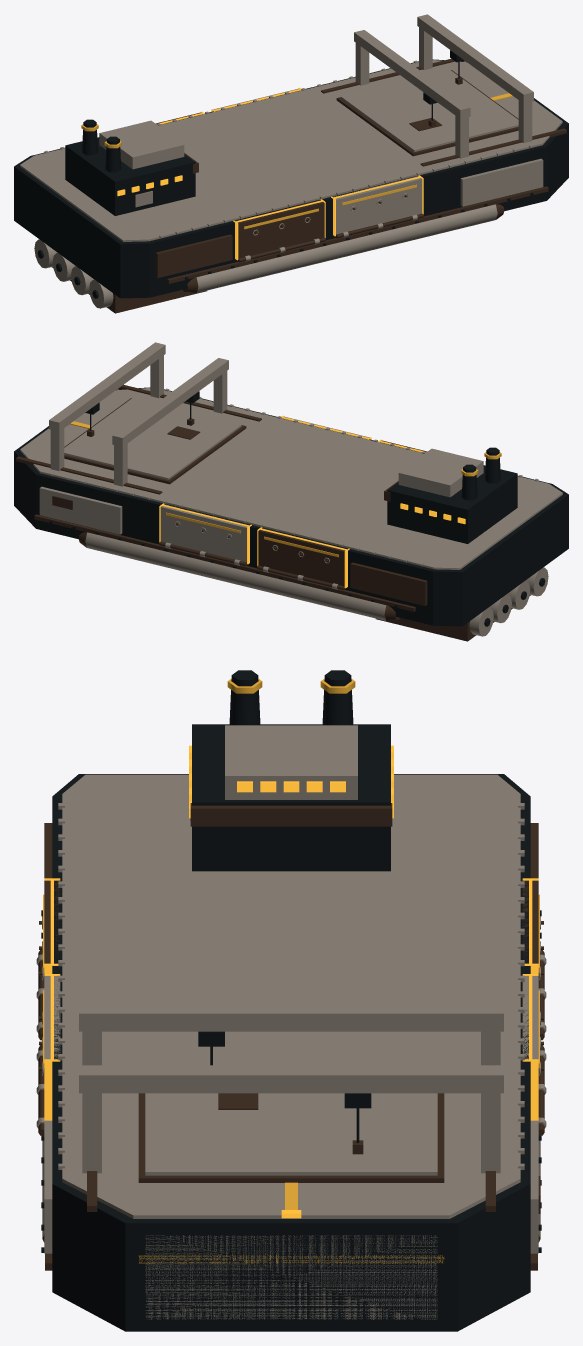
The model's file is freighter-bathyarch.glb.
3 renders of one model, top to bottom at view 1: azimuth 30°, elevation 25°; view 2: azimuth 150°, elevation 25°; view 3: azimuth 270°, elevation 25°, orthographic. The views are drawn at different scales.
Parts seen in each view (by area): view 1: armour_tier_1, hull_slab, hatch_cover, citadel, ballast_s, hold_door_s0, hold_door_s1, citadel_top, flank_plate_s0, gantry_0_beam, gantry_1_beam, flank_plate_s1 (+15 smaller); view 2: armour_tier_1, hull_slab, hatch_cover, citadel, ballast_p, hold_door_p1, hold_door_p0, citadel_top, flank_plate_p0, gantry_0_beam, gantry_1_beam, flank_plate_p1 (+15 smaller); view 3: armour_tier_1, hull_slab, hatch_cover, citadel, bow_plate, gantry_0_beam, gantry_1_beam, citadel_top, citadel_visor, hatch_coaming, gantry_1_leg_s, gantry_1_leg_p (+9 smaller).
Boxes of the visible parts, bbox=[...] form: armour_tier_1: bbox=[20, 60, 562, 241]; hull_slab: bbox=[14, 59, 568, 298]; hatch_cover: bbox=[341, 70, 518, 151]; citadel: bbox=[65, 137, 195, 215]; ballast_s: bbox=[196, 204, 497, 292]; hold_door_s0: bbox=[333, 176, 422, 234]; hold_door_s1: bbox=[235, 200, 324, 258]; citadel_top: bbox=[99, 120, 184, 169]; flank_plate_s0: bbox=[460, 158, 543, 206]; gantry_0_beam: bbox=[354, 30, 470, 118]; gantry_1_beam: bbox=[417, 14, 533, 103]; flank_plate_s1: bbox=[155, 234, 232, 277]; armour_tier_1: bbox=[20, 388, 562, 569]; hull_slab: bbox=[14, 387, 568, 626]; hatch_cover: bbox=[64, 398, 241, 479]; citadel: bbox=[387, 465, 517, 543]; ballast_p: bbox=[85, 532, 386, 620]; hold_door_p1: bbox=[258, 528, 344, 586]; hold_door_p0: bbox=[160, 504, 247, 562]; citadel_top: bbox=[398, 448, 483, 497]; flank_plate_p0: bbox=[39, 486, 122, 534]; gantry_0_beam: bbox=[112, 358, 228, 446]; gantry_1_beam: bbox=[49, 342, 165, 431]; flank_plate_p1: bbox=[350, 562, 427, 605]; armour_tier_1: bbox=[62, 774, 520, 1218]; hull_slab: bbox=[52, 774, 530, 1331]; hatch_cover: bbox=[145, 1093, 437, 1175]; citadel: bbox=[192, 724, 390, 871]; bow_plate: bbox=[145, 1235, 437, 1319]; gantry_0_beam: bbox=[79, 1003, 503, 1031]; gantry_1_beam: bbox=[79, 1065, 503, 1093]; citadel_top: bbox=[225, 725, 357, 799]; citadel_visor: bbox=[190, 803, 392, 826]; hatch_coaming: bbox=[138, 1093, 444, 1182]; gantry_1_leg_s: bbox=[82, 1093, 101, 1173]; gantry_1_leg_p: bbox=[481, 1093, 500, 1173].
Size of the model in its own units: 160 by 50 by 76.7.
